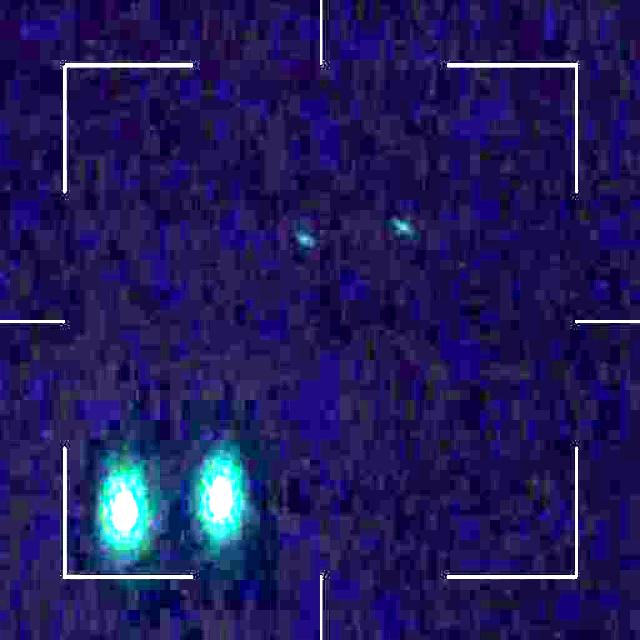bird: (106, 468, 239, 555)
